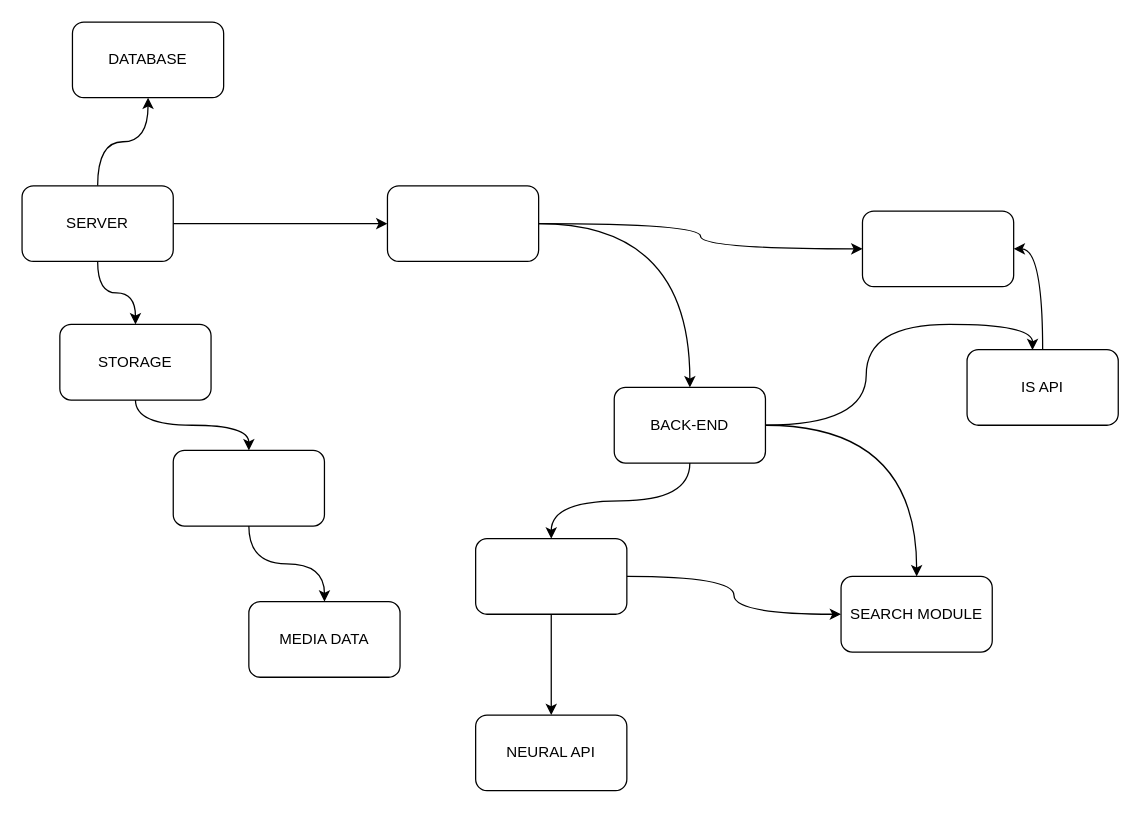
Image size: 1140x813. Some labels were removed from this diagram. The centre of each missing label's shape, as x and y in pixels:
"AI MODULE" goes at point (550, 575).
"APP" goes at point (462, 223).
"CLOUD STORAGE" goes at point (248, 487).
"FRONT-END" goes at point (937, 248).
